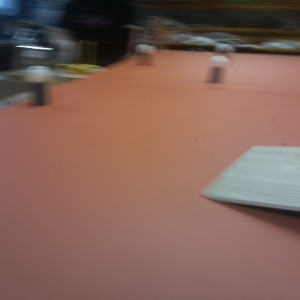obstacle: (25, 65, 55, 112), (205, 55, 231, 88), (136, 43, 154, 70), (216, 42, 233, 54)
slope: (197, 141, 300, 210)
